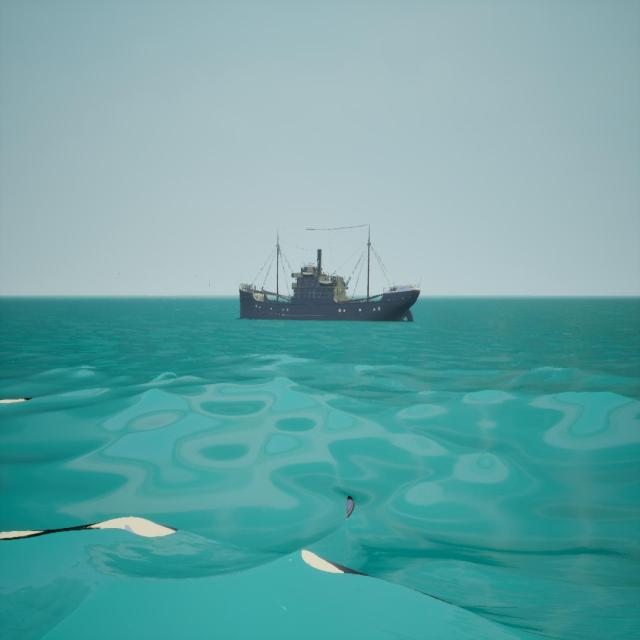fishing ship: (238, 227, 421, 323)
